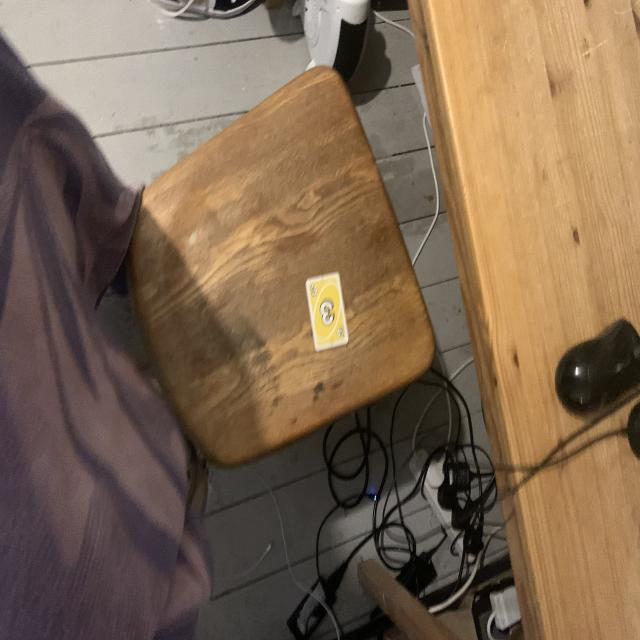lyellow-3: (308, 282, 319, 298)
